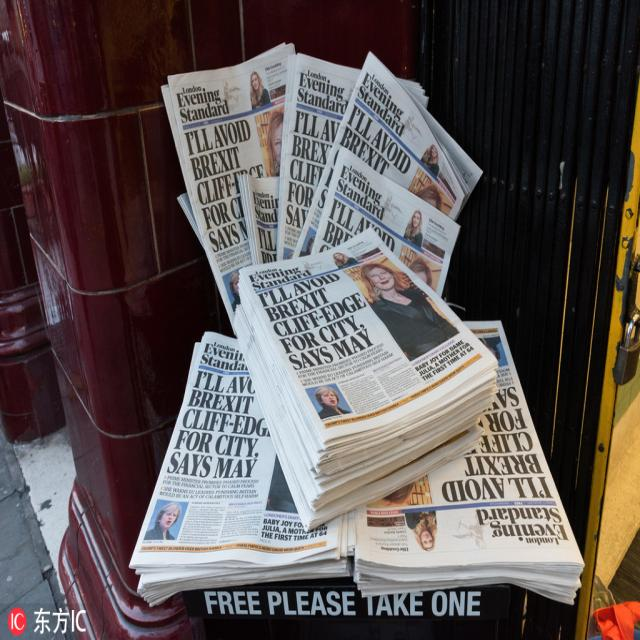newspaper: (167, 46, 478, 295), (226, 239, 488, 511), (350, 322, 587, 598), (140, 325, 351, 577)
